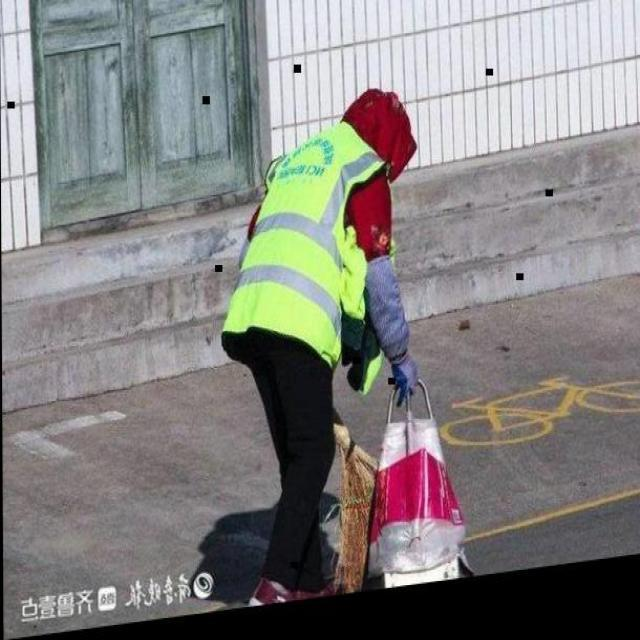safety_helmet: (221, 123, 397, 378)
